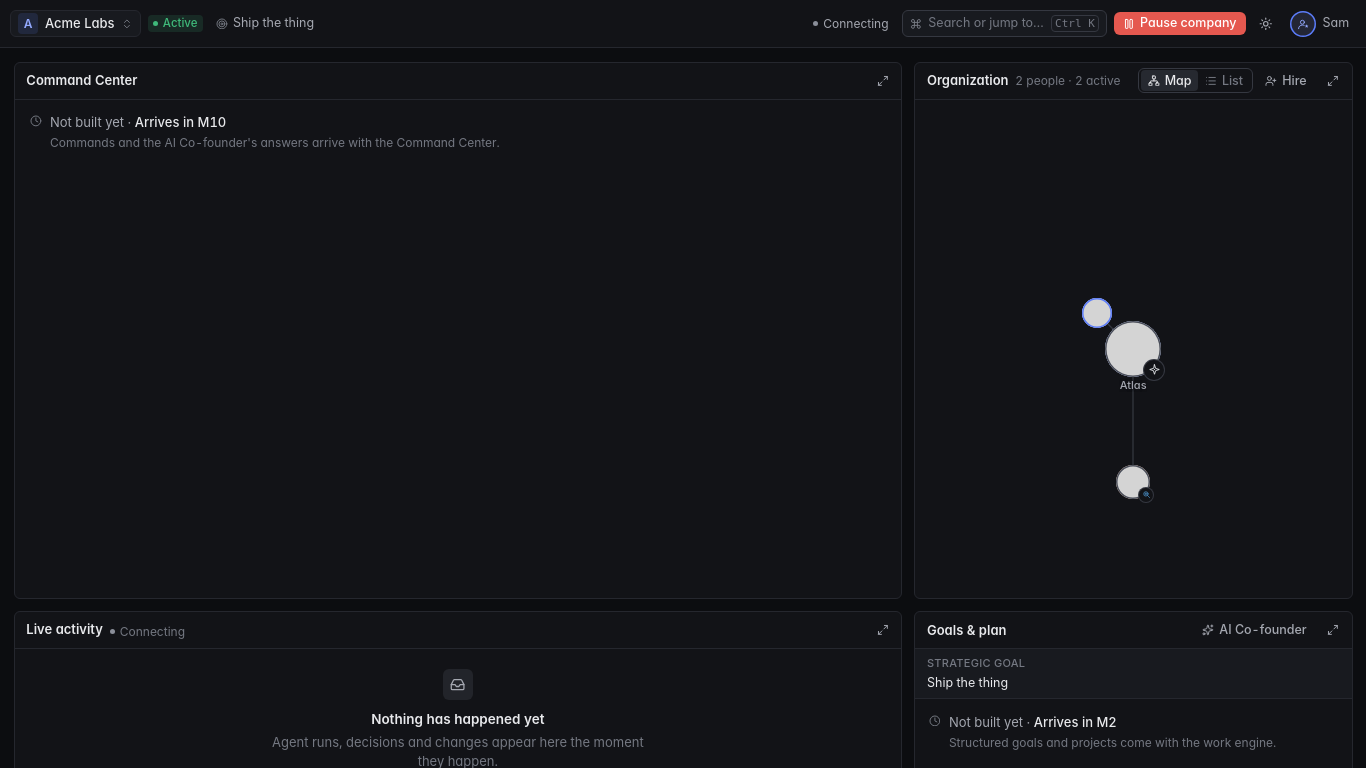
command palette › opens memory and notes
The width and height of the screenshot is (1366, 768).
Expected: the text "Atlas" is shown, [1120, 378, 1147, 392]
Type keys "{Control>}k{/Control}"
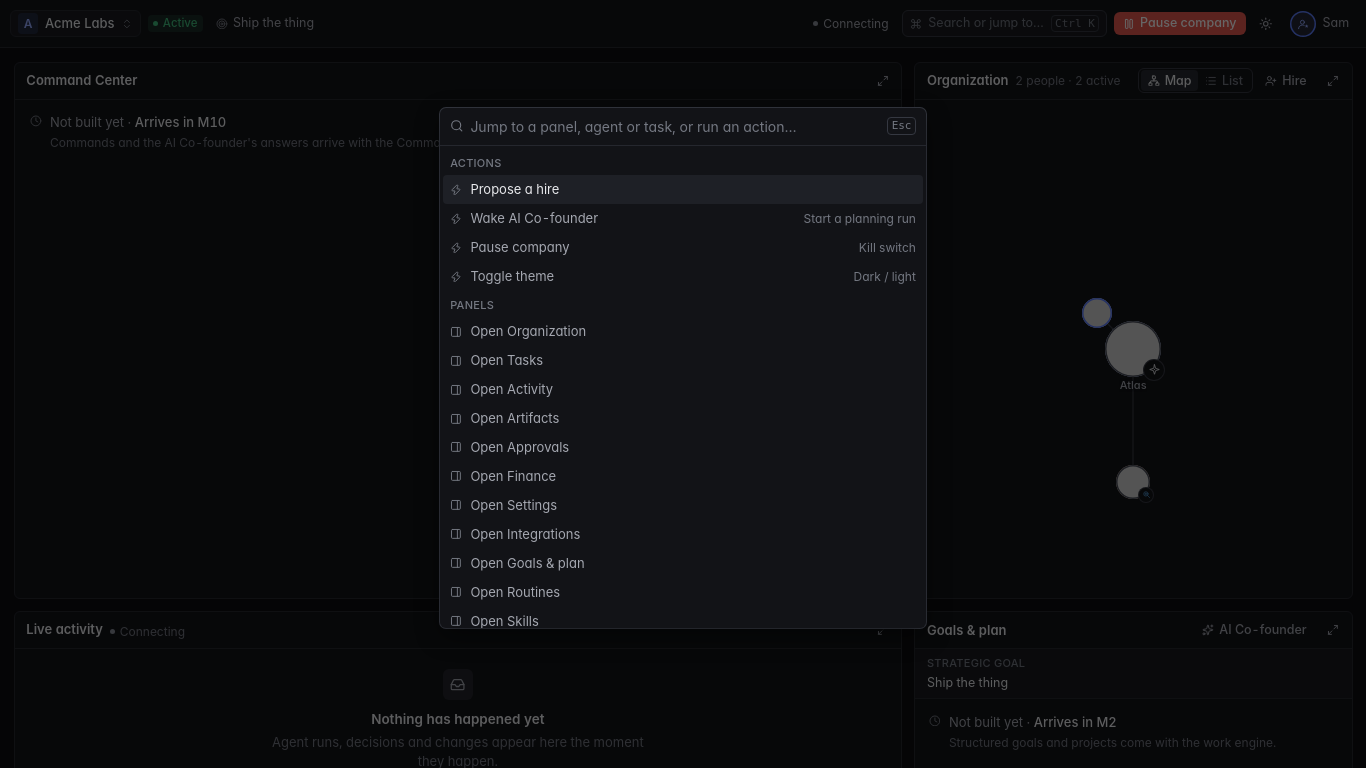
Type "open memory" into the dropdown named "Search commands" at point(675, 126), box [470, 108, 880, 145]
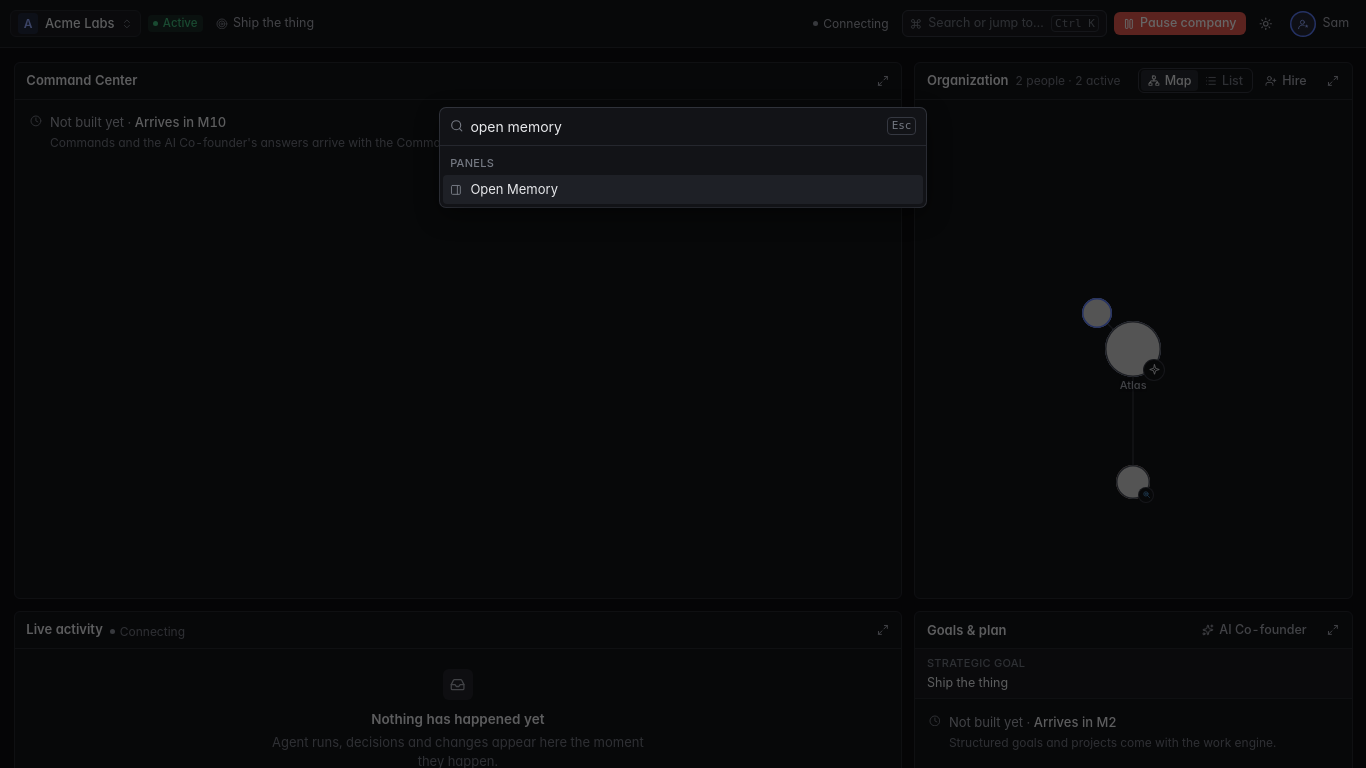
Press Enter
(page scrolled)
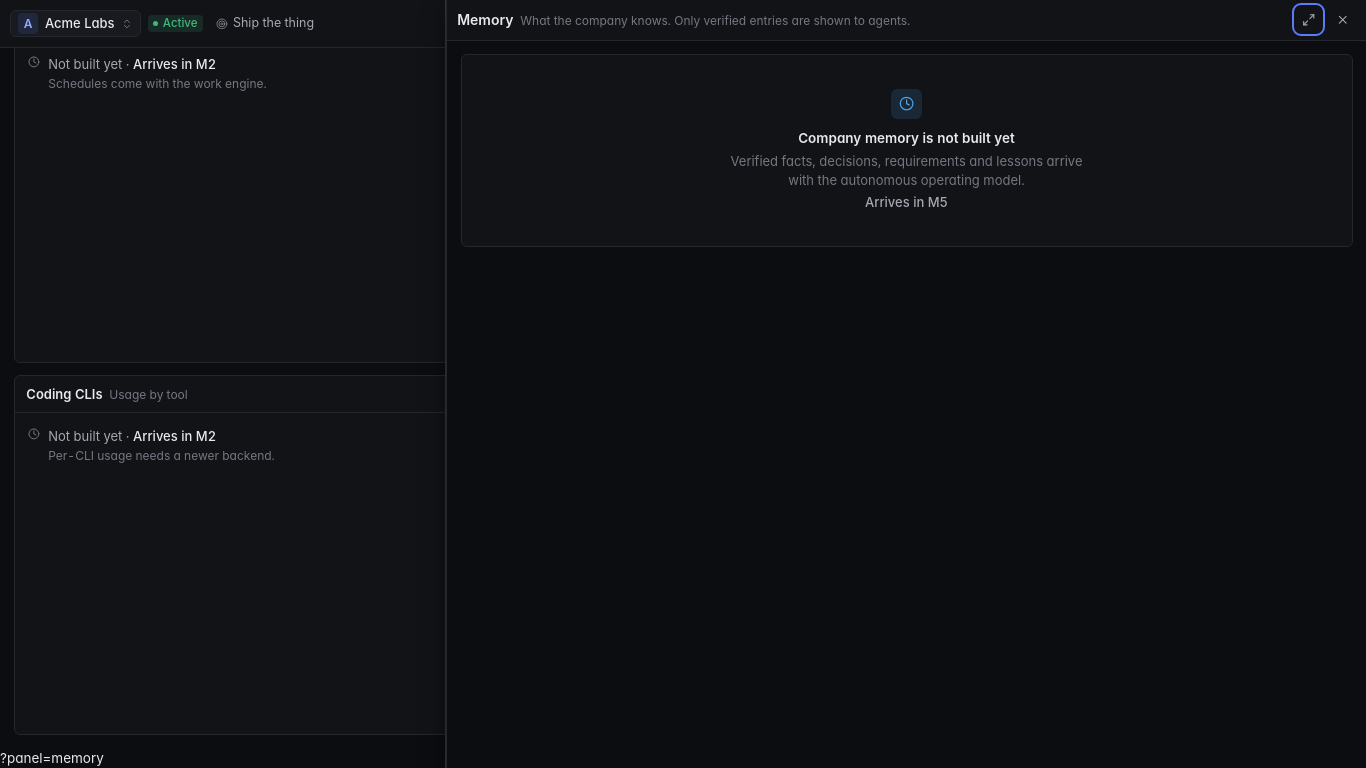
Expected: the dialog "Memory" is shown
Expected: the text with test id "loc" reads "?panel=memory", [0, 750, 104, 766]
